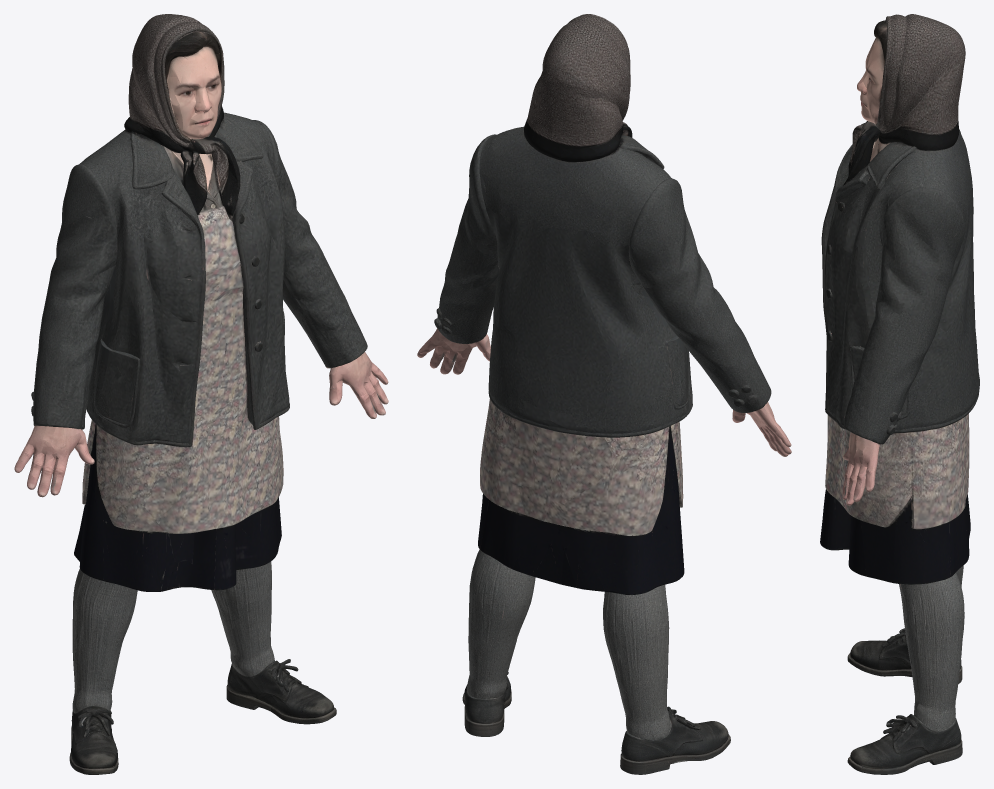
The model's file is civilian_woman.glb.
3 views of the same model, side by side, from view 1: azimuth 30°, elevation 25°; view 2: azimuth 150°, elevation 25°; view 3: azimuth 270°, elevation 25° (orthographic). The views are drawn at different scales.
Bounding box in the file's own units: 1.04 × 1.9 × 0.3958.
Materials: 1 (1 with a texture image).
